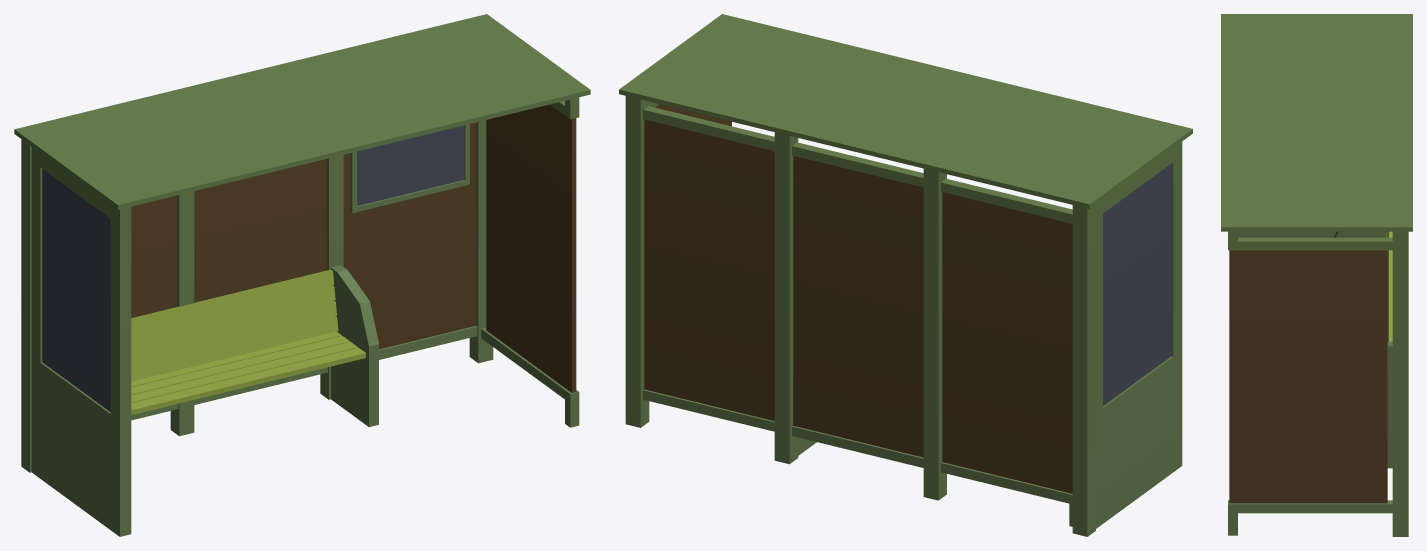
Rendered from BusStation_01.fbx.
3 views of the same model, side by side, from view 1: azimuth 30°, elevation 25°; view 2: azimuth 150°, elevation 25°; view 3: azimuth 270°, elevation 25° (orthographic). The views are drawn at different scales.
Visible parts, largest first — view 1: BusStation_01; view 2: BusStation_01; view 3: BusStation_01.
Boxes of the visible parts, box(x1,y1,x2,y2) form: BusStation_01: box(14, 14, 590, 536); BusStation_01: box(619, 14, 1192, 536); BusStation_01: box(1221, 14, 1412, 536).
Bounding box in the file's own units: 3.16 × 2.15 × 1.2.
